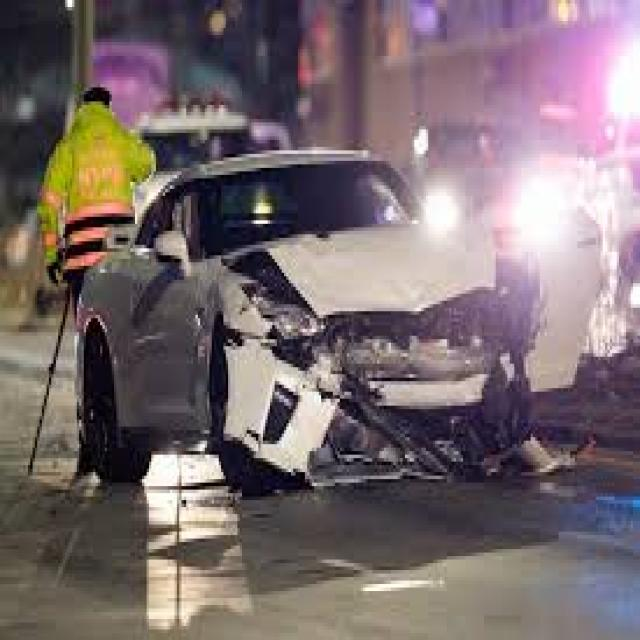accident: (121, 187, 567, 521)
